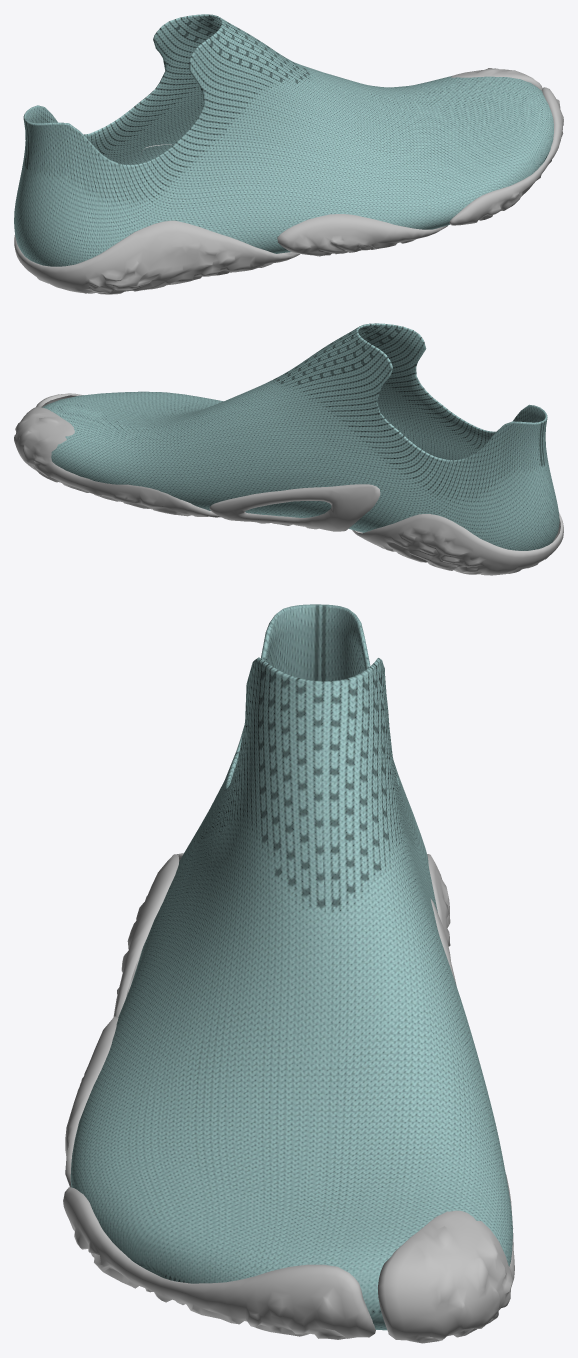
The model's file is pod.glb.
3 renders of one model, top to bottom at view 1: azimuth 30°, elevation 25°; view 2: azimuth 150°, elevation 25°; view 3: azimuth 270°, elevation 25°, orthographic. The views are drawn at different scales.
Visible parts, largest first — view 1: Pod_Onroad; view 2: Pod_Onroad; view 3: Pod_Onroad.
Part boxes in pixels (x1,y1,x2,y2): Pod_Onroad: (14,14,563,294); Pod_Onroad: (14,323,563,575); Pod_Onroad: (63,604,514,1343).
Size of the model in its own units: 0.4251 by 0.1632 by 0.1637.
Materials: 1 (1 with a texture image).
